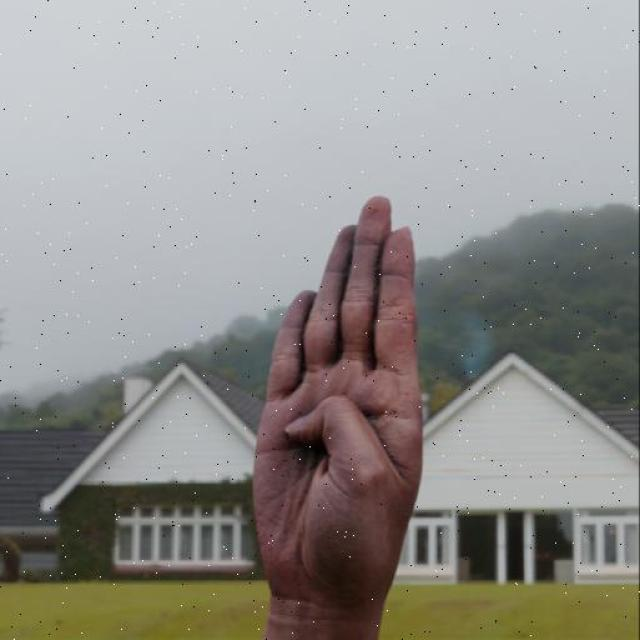B: (251, 191, 425, 599)
